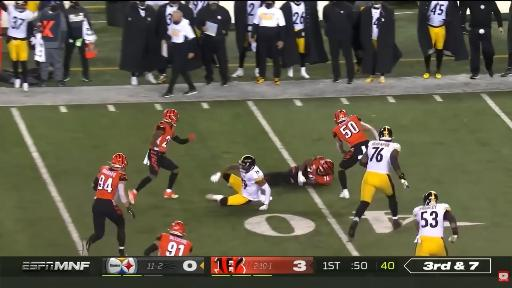Helmet: (318, 158, 334, 175), (239, 155, 255, 172), (169, 221, 185, 236), (111, 154, 127, 169), (163, 109, 178, 125), (423, 191, 438, 205), (378, 127, 392, 141), (335, 110, 347, 123)
Jersey: (413, 204, 450, 237), (95, 166, 127, 201), (367, 141, 400, 174), (333, 116, 367, 147), (7, 5, 34, 39), (303, 157, 332, 185), (156, 234, 192, 256), (240, 166, 263, 200), (151, 122, 174, 153), (428, 2, 448, 26), (291, 2, 305, 29), (247, 2, 261, 25), (166, 5, 177, 34), (372, 8, 381, 40), (189, 2, 208, 17)
Player: (348, 127, 409, 239), (129, 109, 195, 203), (83, 154, 134, 256), (333, 110, 376, 198), (206, 155, 271, 210), (0, 2, 35, 90), (413, 191, 458, 256), (264, 156, 334, 186), (144, 221, 192, 256)
